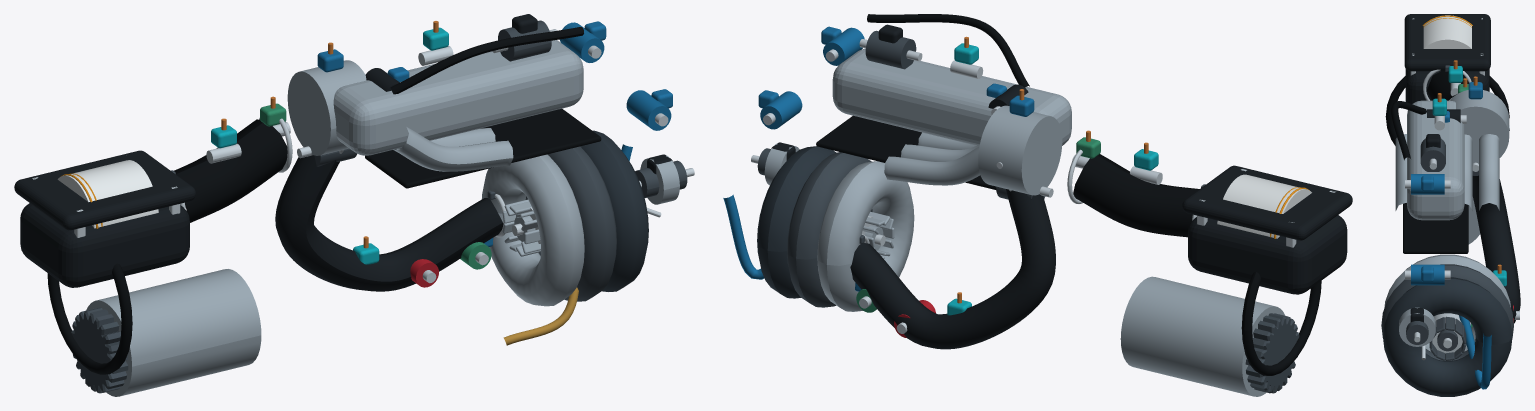
The model's file is generic_intake_boost.glb.
The picture shows the model from 3 angles, left to right: view 1: azimuth 30°, elevation 25°; view 2: azimuth 150°, elevation 25°; view 3: azimuth 270°, elevation 25°; orthographic projection. The views are drawn at different scales.
Parts seen in each view (by area): view 1: system_mesh__intake_manifold__plenum, system_mesh__supercharger__rotor_case, system_mesh__charge_hoses__charge_path, system_mesh__turbo_cold_housing__compressor_scroll, system_mesh__air_filter_box__lower_shell, system_mesh__air_box_lid__upper_shell, system_mesh__intake_duct__main_duct, system_mesh__intake_manifold_gasket__sealing_layer, system_mesh__turbocharger__center_scroll, system_mesh__turbo_hot_housing__turbine_scroll, system_mesh__throttle_body__bore, system_mesh__supercharger_pulley__drive_pulley (+11 smaller); view 2: system_mesh__supercharger__rotor_case, system_mesh__charge_hoses__charge_path, system_mesh__intake_manifold__plenum, system_mesh__air_filter_box__lower_shell, system_mesh__turbo_cold_housing__compressor_scroll, system_mesh__throttle_body__bore, system_mesh__intake_duct__main_duct, system_mesh__air_box_lid__upper_shell, system_mesh__turbocharger__center_scroll, system_mesh__turbo_hot_housing__turbine_scroll, system_mesh__intake_manifold_gasket__sealing_layer, system_mesh__supercharger_pulley__drive_pulley (+11 smaller); view 3: system_mesh__turbo_hot_housing__turbine_scroll, system_mesh__intake_manifold__plenum, system_mesh__air_box_lid__upper_shell, system_mesh__charge_hoses__charge_path, system_mesh__intake_manifold_gasket__sealing_layer, system_mesh__throttle_body__bore, system_mesh__turbocharger__center_scroll, system_mesh__intake_manifold__runner_1, system_mesh__air_filter__pleated_core, system_mesh__turbo_cold_housing__compressor_scroll, system_mesh__air_filter_box__lower_shell, system_mesh__turbo_coolant_lines__coolant_loop (+24 smaller).
Boxes of the visible parts, x1,y1,x2,y2 form: system_mesh__intake_manifold__plenum: (333,40,583,155); system_mesh__supercharger__rotor_case: (86,269,261,396); system_mesh__charge_hoses__charge_path: (275,155,503,291); system_mesh__turbo_cold_housing__compressor_scroll: (481,154,584,306); system_mesh__air_filter_box__lower_shell: (20,203,189,287); system_mesh__air_box_lid__upper_shell: (14,150,195,230); system_mesh__intake_duct__main_duct: (174,119,287,222); system_mesh__intake_manifold_gasket__sealing_layer: (365,108,601,188); system_mesh__turbocharger__center_scroll: (525,146,616,301); system_mesh__turbo_hot_housing__turbine_scroll: (580,130,648,291); system_mesh__throttle_body__bore: (287,60,366,155); system_mesh__supercharger_pulley__drive_pulley: (71,307,128,393); system_mesh__supercharger__rotor_case: (1120,276,1285,396); system_mesh__charge_hoses__charge_path: (850,189,1055,349); system_mesh__intake_manifold__plenum: (832,48,1071,145); system_mesh__air_filter_box__lower_shell: (1188,215,1347,294); system_mesh__turbo_cold_housing__compressor_scroll: (817,161,914,311); system_mesh__throttle_body__bore: (978,105,1062,195); system_mesh__intake_duct__main_duct: (1073,154,1199,237); system_mesh__air_box_lid__upper_shell: (1182,165,1352,240); system_mesh__turbocharger__center_scroll: (787,152,872,307); system_mesh__turbo_hot_housing__turbine_scroll: (757,146,836,298); system_mesh__intake_manifold_gasket__sealing_layer: (816,115,996,189); system_mesh__supercharger_pulley__drive_pulley: (1245,313,1299,393); system_mesh__turbo_hot_housing__turbine_scroll: (1383,277,1512,396); system_mesh__intake_manifold__plenum: (1407,100,1464,220); system_mesh__air_box_lid__upper_shell: (1404,14,1490,71); system_mesh__charge_hoses__charge_path: (1472,175,1520,323); system_mesh__intake_manifold_gasket__sealing_layer: (1403,203,1468,253); system_mesh__throttle_body__bore: (1450,90,1509,163); system_mesh__turbocharger__center_scroll: (1381,264,1513,360); system_mesh__intake_manifold__runner_1: (1479,134,1499,210); system_mesh__air_filter__pleated_core: (1423,15,1471,48); system_mesh__turbo_cold_housing__compressor_scroll: (1384,254,1510,351); system_mesh__air_filter_box__lower_shell: (1405,69,1489,103); system_mesh__turbo_coolant_lines__coolant_loop: (1459,315,1491,389).
Bounding box in the file's own units: 7.11 × 3.49 × 1.74.
